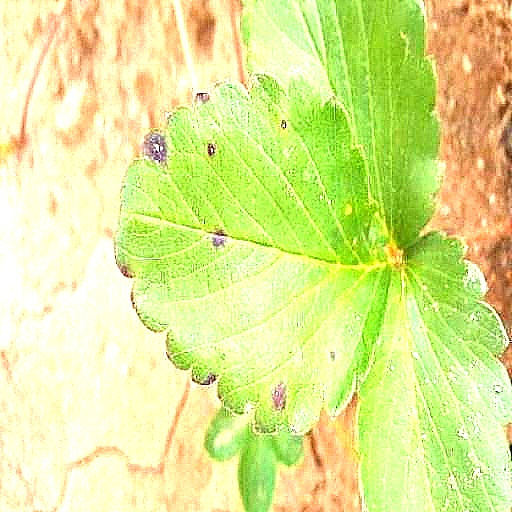Leaf Spot: (115, 70, 400, 438), (0, 230, 158, 511)
